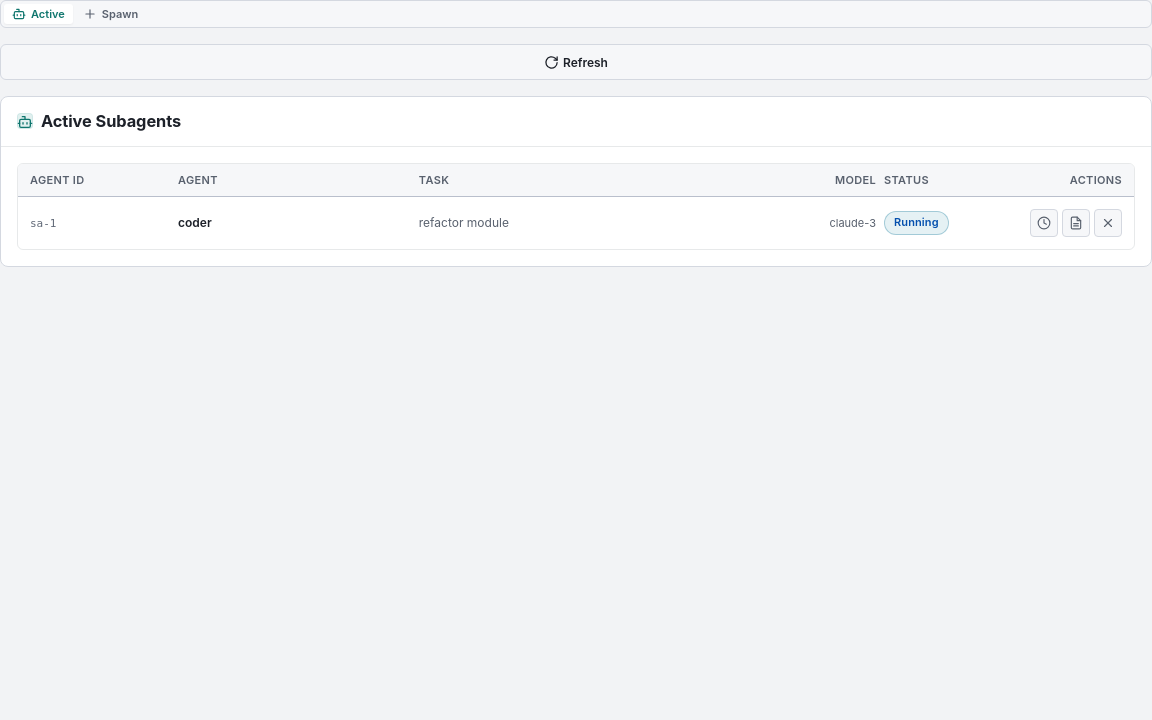
Test: Subagents.vue › opens wait modal when wait button clicked
This screenshot has width=1152, height=720.
Click the button named "Wait".
click(1044, 223)  # box [1030, 209, 1058, 237]
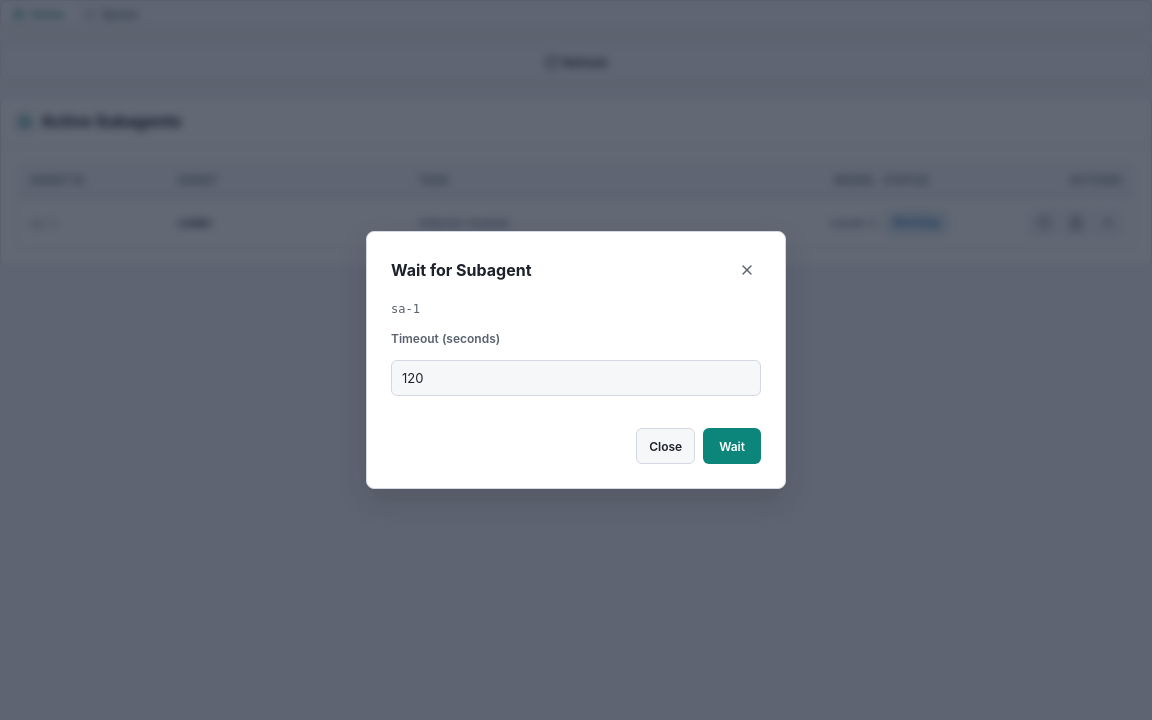
Result: the dialog with class "modal-overlay" is shown
